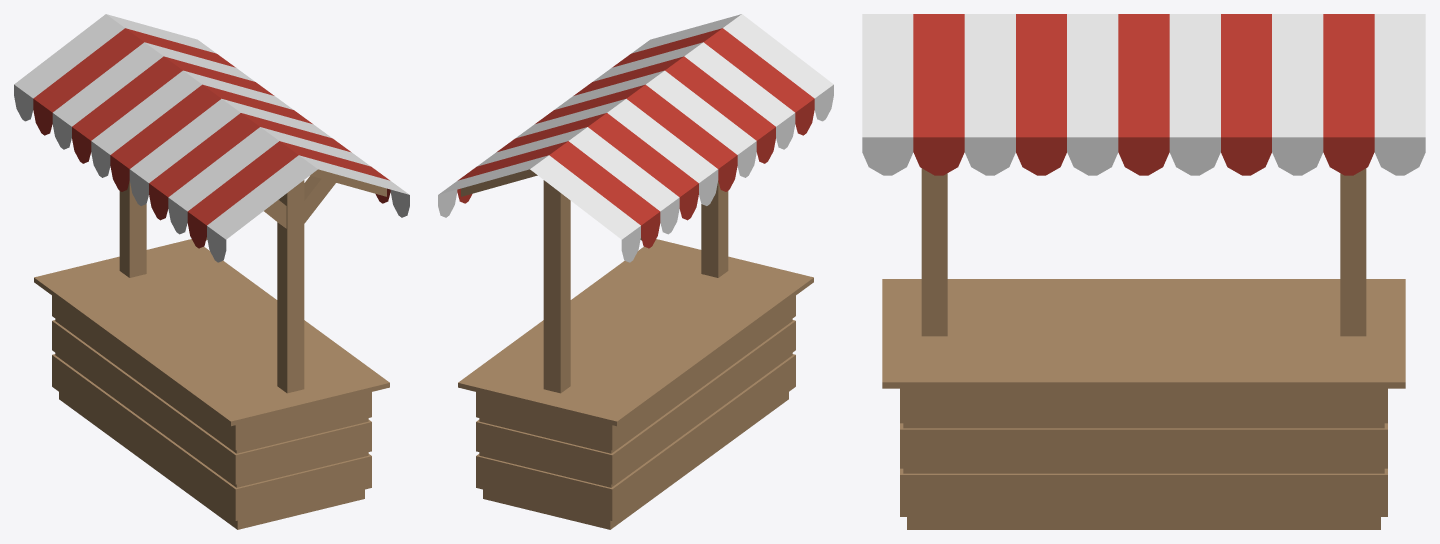
File: stall.fbx
3 renders of one model, left to right at view 1: azimuth 30°, elevation 25°; view 2: azimuth 150°, elevation 25°; view 3: azimuth 270°, elevation 25°, orthographic. The views are drawn at different scales.
Parts seen in each view (by area): view 1: Stall; view 2: Stall; view 3: Stall.
Part boxes in pixels (x1,y1,x2,y2): Stall: (14,14,409,529); Stall: (438,14,833,529); Stall: (862,14,1425,529).
Size of the model in its own units: 404 by 751 by 808.
